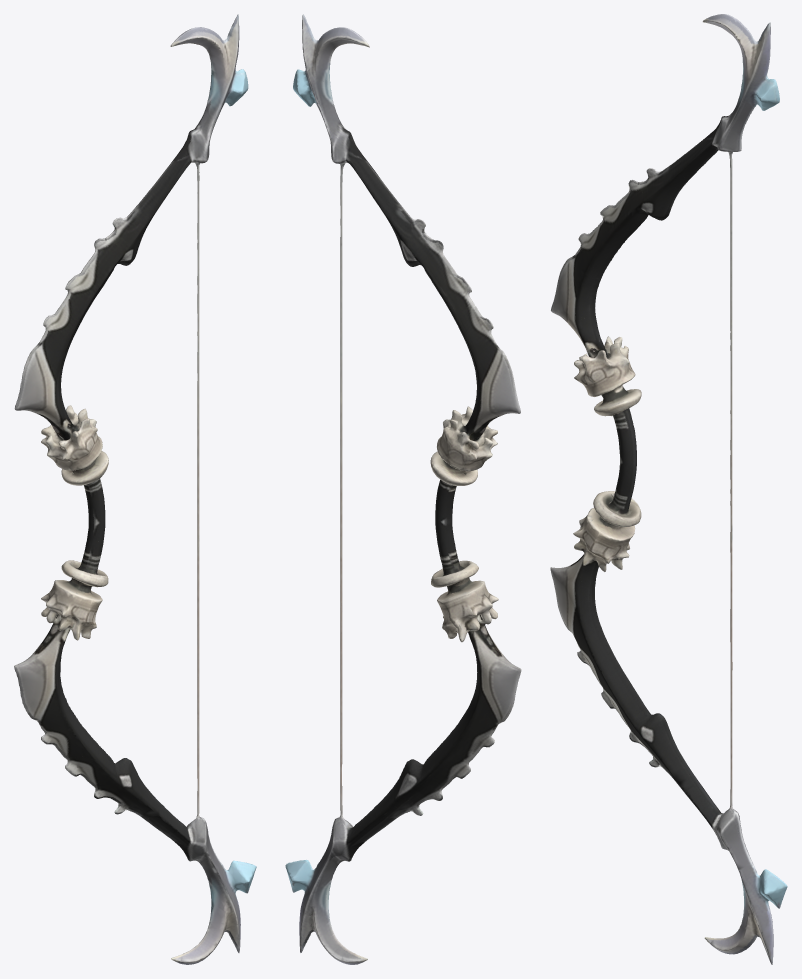
Rendered from Gandiva.glb.
The picture shows the model from 3 angles, left to right: view 1: azimuth 30°, elevation 25°; view 2: azimuth 150°, elevation 25°; view 3: azimuth 330°, elevation 25°; orthographic projection.
Size of the model in its own units: 0.5048 by 1.89 by 0.1056.
Materials: 1 (1 with a texture image).
